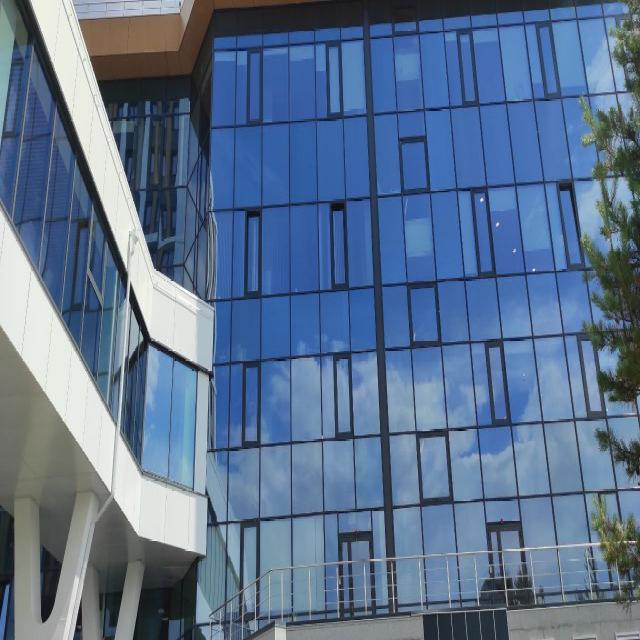Building: (78, 0, 640, 640)
